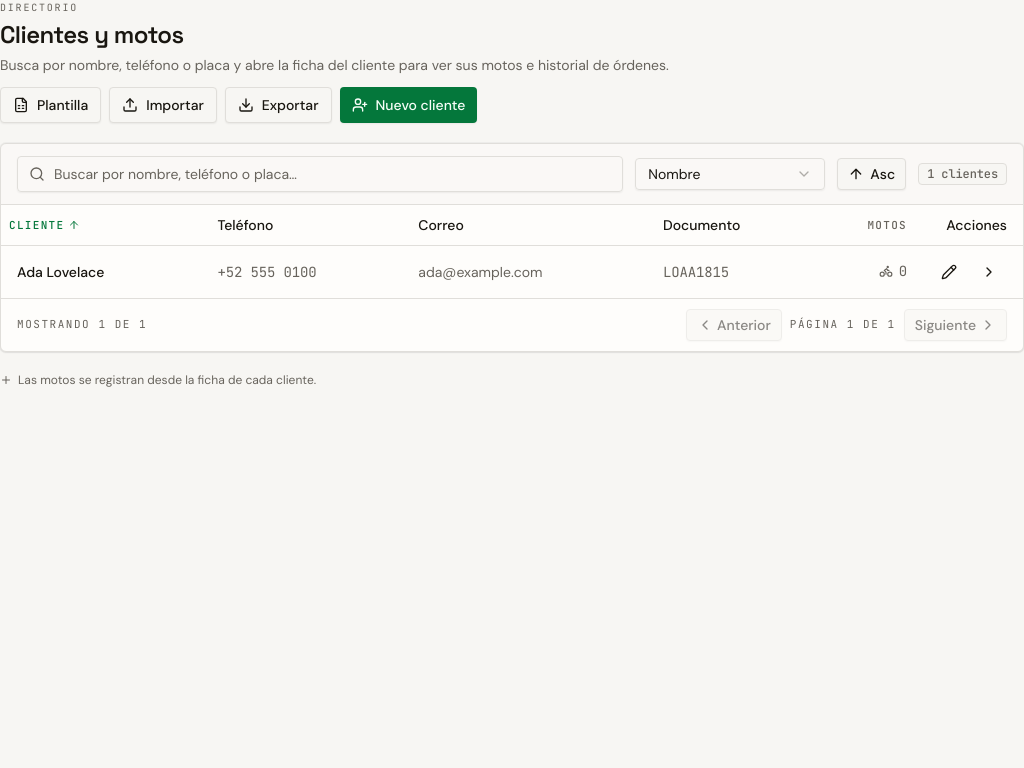
Test: CustomersPage customer modal (characterization) › closes the modal without saving when the user cancels
The image size is (1024, 768).
Expected: the link "Ada Lovelace" is shown, [17,262,104,280]
What coordinates should you click on to do the following:
click the button with test id "customers.edit_button.1"
I would click on:
 (949, 272)
Its box is [931,254,967,290].
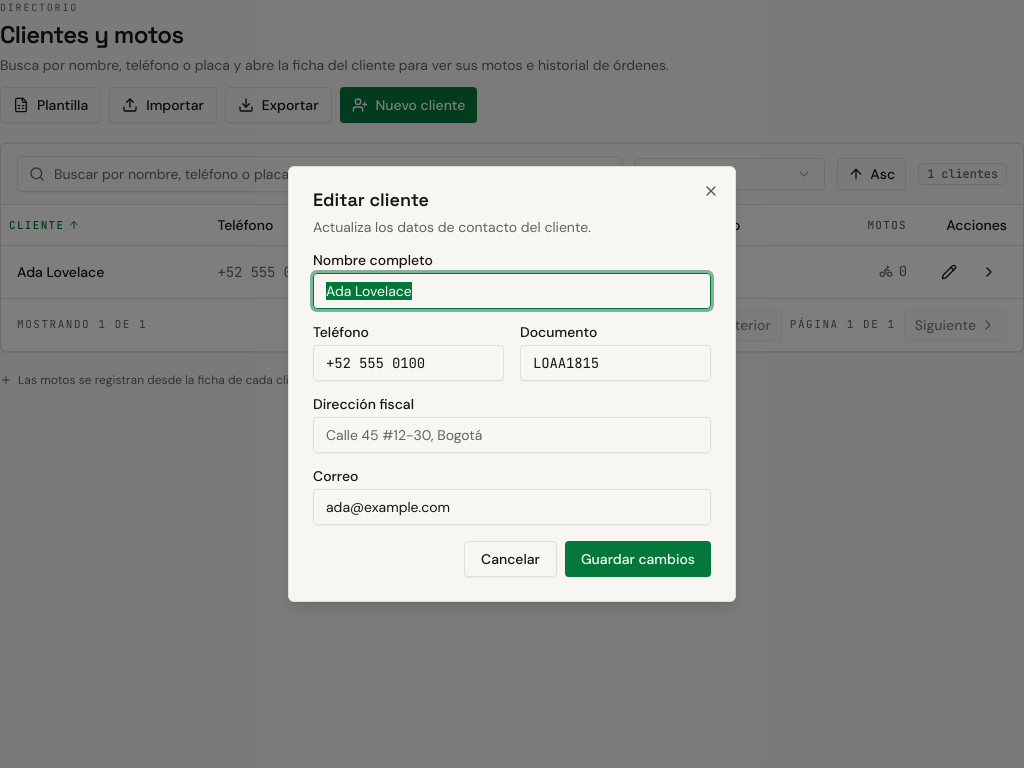
Result: the dialog with test id "customer.dialog" is shown at [288,166,736,602]
What coordinates should you click on to do the following:
click the button with test id "customer.cancel_button"
I would click on:
 (510, 559)
Its box is [464,541,557,577].
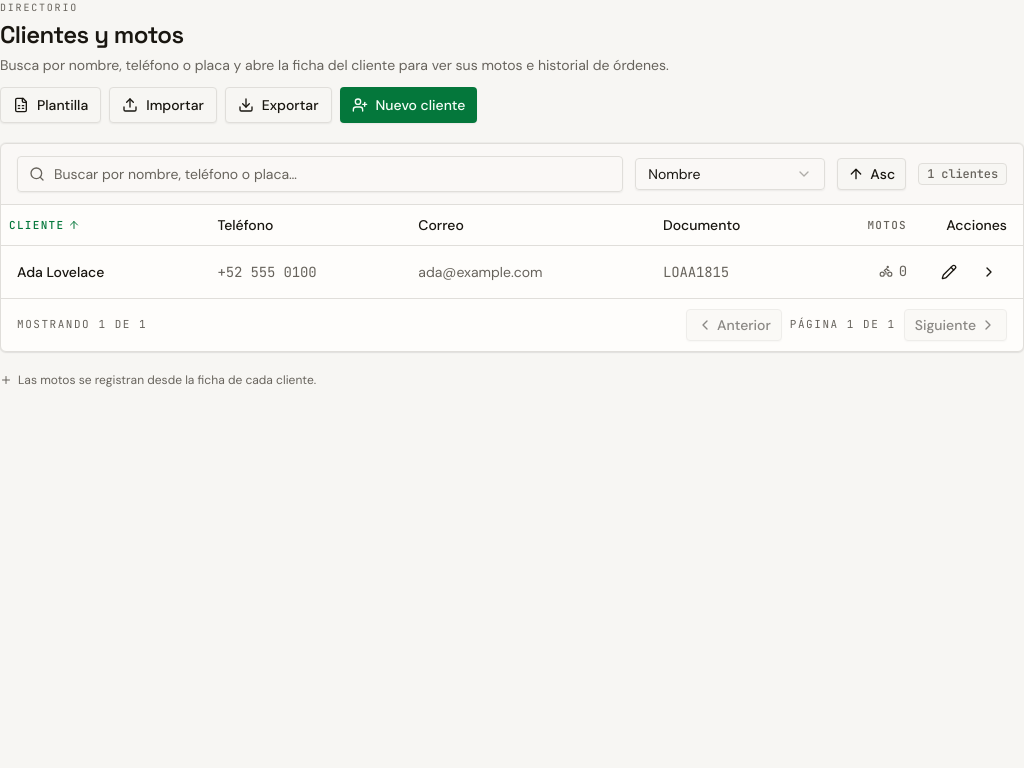
Result: the dialog with test id "customer.dialog" is gone
